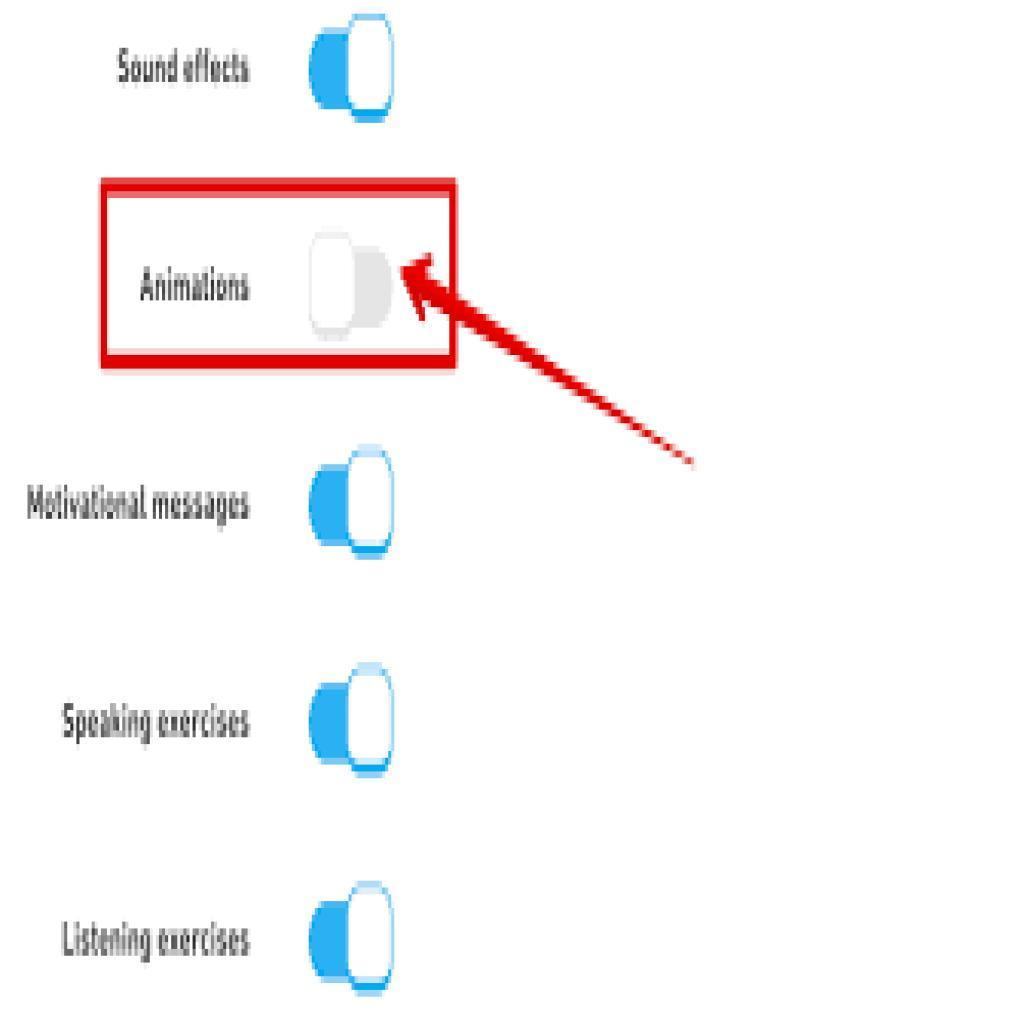switch: (301, 432, 408, 583), (302, 653, 401, 796), (298, 1, 399, 137), (306, 875, 406, 1010), (298, 227, 397, 348)
